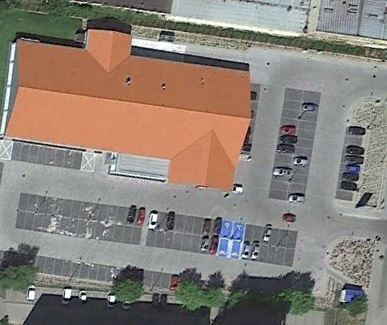shopping_center: (1, 23, 259, 195)
